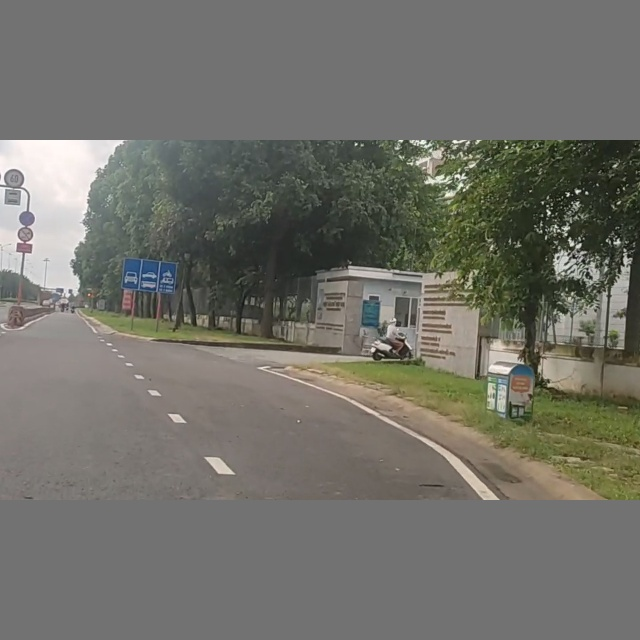R.415a: (120, 257, 178, 293)
